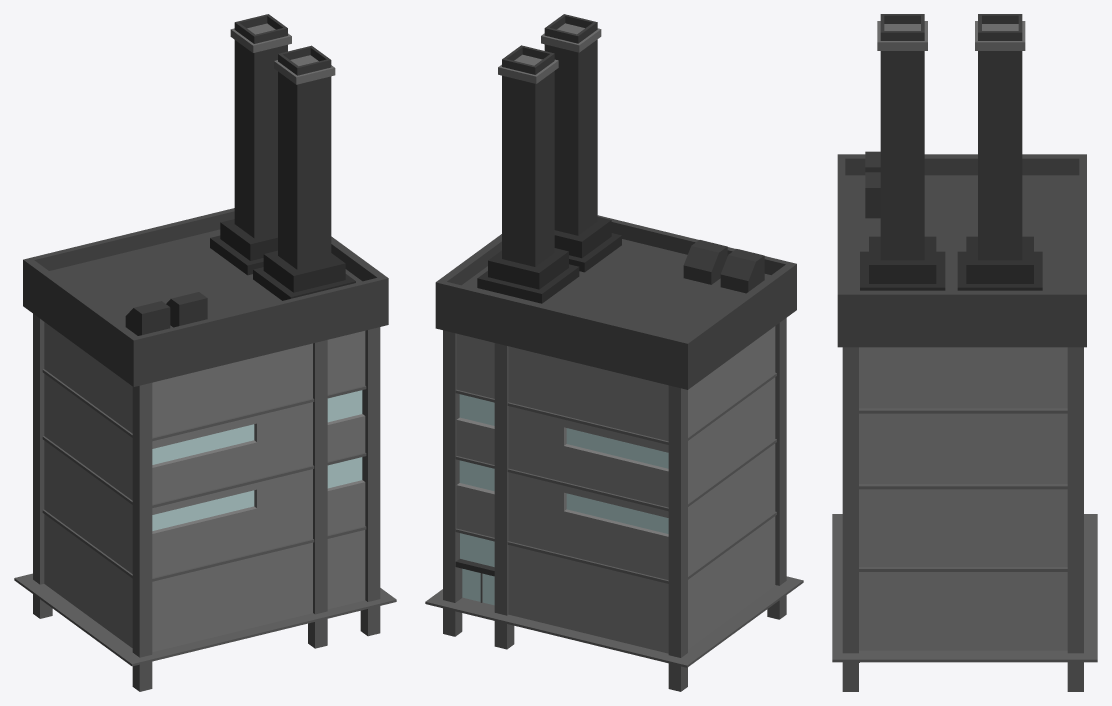
Rendered from Factory2.fbx.
3 views of the same model, side by side, from view 1: azimuth 30°, elevation 25°; view 2: azimuth 150°, elevation 25°; view 3: azimuth 270°, elevation 25° (orthographic). The views are drawn at different scales.
Visible parts, largest first — view 1: Cube.001, Cube.006, Cube.018, Cube.022, Cube.004, Cube.005, Cube, Cube.013, Cube.003, Cube.017, Cube.026, Cube.027 (+12 smaller); view 2: Cube.001, Cube.006, Cube.022, Cube.018, Cube.003, Cube, Cube.002, Cube.010, Cube.004, Cube.021, Cube.024, Cube.025 (+14 smaller); view 3: Cube.001, Cube.006, Cube.018, Cube.022, Cube, Cube.002, Cube.005, Cube.017, Cube.021, Cube.008, Cube.009, Cube.016 (+5 smaller).
Part boxes in pixels (box(x1,y1,x2,y2)): Cube.001: box(44, 322, 365, 651); Cube.006: box(23, 208, 388, 386); Cube.018: box(278, 45, 331, 269); Cube.022: box(234, 14, 287, 238); Cube.004: box(132, 382, 152, 691); Cube.005: box(360, 327, 380, 636); Cube: box(14, 573, 396, 666); Cube.013: box(308, 340, 327, 648); Cube.003: box(33, 314, 52, 618); Cube.017: box(263, 250, 345, 292); Cube.026: box(152, 424, 254, 464); Cube.027: box(152, 490, 254, 530); Cube.001: box(456, 326, 775, 653); Cube.006: box(435, 215, 796, 389); Cube.022: box(502, 45, 554, 266); Cube.018: box(544, 14, 597, 235); Cube.003: box(668, 385, 687, 691); Cube: box(425, 576, 803, 667); Cube.002: box(443, 330, 462, 636); Cube.010: box(494, 343, 514, 649); Cube.004: box(767, 318, 786, 619); Cube.021: box(488, 248, 568, 289); Cube.024: box(566, 428, 668, 468); Cube.025: box(566, 493, 668, 533); Cube.001: box(859, 347, 1067, 650); Cube.006: box(837, 154, 1086, 347); Cube.018: box(880, 14, 924, 260); Cube.022: box(978, 14, 1022, 260); Cube: box(832, 514, 1097, 662); Cube.002: box(1067, 347, 1083, 691); Cube.005: box(842, 347, 858, 691); Cube.017: box(869, 236, 936, 283); Cube.021: box(966, 236, 1033, 283); Cube.008: box(859, 484, 1067, 489); Cube.009: box(859, 408, 1067, 413); Cube.016: box(860, 251, 945, 290).
Bounding box in the file's own units: 4245 × 8718 × 3270.
